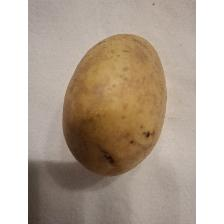Kartoffel: (60, 31, 170, 179)
